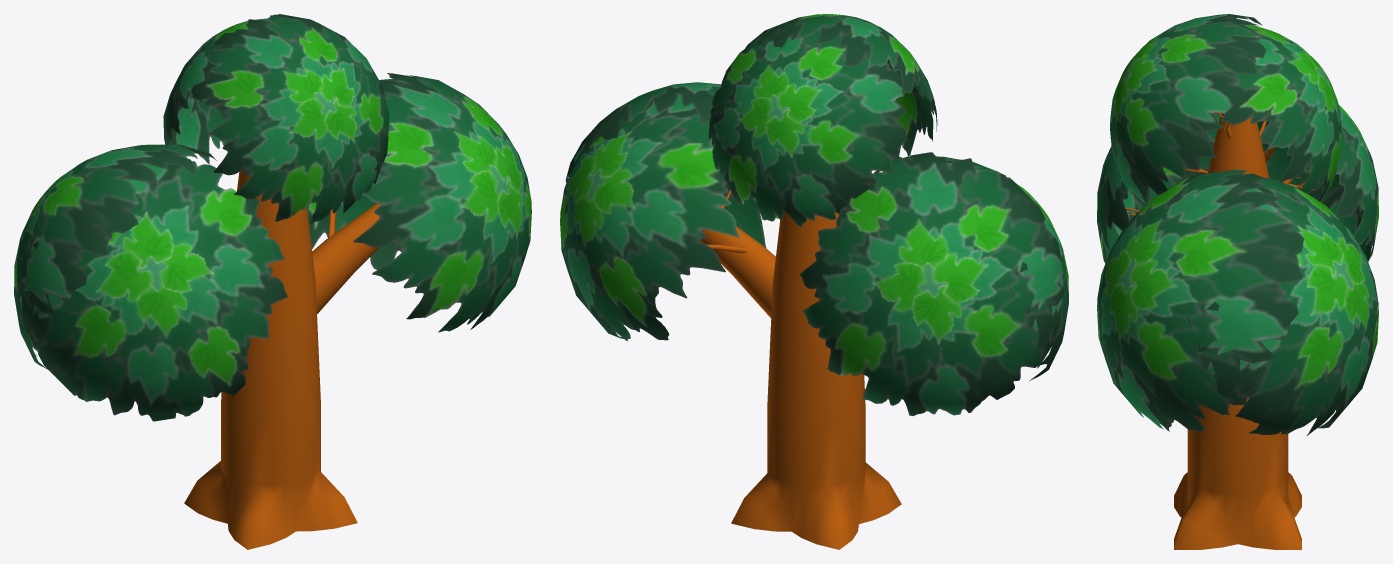
File: wood.fbx
3 renders of one model, left to right at view 1: azimuth 30°, elevation 25°; view 2: azimuth 150°, elevation 25°; view 3: azimuth 270°, elevation 25°, orthographic. The views are drawn at different scales.
Parts seen in each view (by area): view 1: leaf03, leaf01, leaf05, wood_miki, leaf04, leaf06, wood_eda01, wood_ne01, wood_ne00, wood_ne02, leaf02, wood_ne04; view 2: leaf04, leaf02, leaf06, wood_miki, leaf05, leaf01, wood_eda01, wood_ne04, leaf03, wood_ne00, wood_ne03, wood_ne01; view 3: leaf01, leaf02, leaf05, leaf06, wood_miki, leaf04, leaf03, wood_ne03, wood_ne02, wood_ne00, wood_ne01, wood_ne04.
Boxes of the visible parts, <box> form: leaf03: <box>18,161,287,421</box>; leaf01: <box>353,73,531,332</box>; leaf05: <box>191,14,389,224</box>; wood_miki: <box>221,169,320,485</box>; leaf04: <box>14,144,216,369</box>; leaf06: <box>163,18,268,164</box>; wood_eda01: <box>312,203,379,314</box>; wood_ne01: <box>228,485,295,549</box>; wood_ne00: <box>221,465,320,530</box>; wood_ne02: <box>296,470,357,531</box>; leaf02: <box>307,79,404,269</box>; wood_ne04: <box>184,461,227,523</box>; leaf04: <box>800,152,1064,416</box>; leaf02: <box>560,94,739,340</box>; leaf06: <box>708,29,907,226</box>; wood_miki: <box>767,211,865,486</box>; leaf05: <box>745,14,937,156</box>; leaf01: <box>565,82,780,248</box>; wood_eda01: <box>700,226,775,318</box>; wood_ne04: <box>792,486,858,549</box>; leaf03: <box>874,156,1068,380</box>; wood_ne00: <box>767,466,865,531</box>; wood_ne03: <box>731,472,791,531</box>; wood_ne01: <box>859,462,901,523</box>; leaf01: <box>1097,169,1304,432</box>; leaf02: <box>1186,177,1378,435</box>; leaf05: <box>1110,14,1266,203</box>; leaf06: <box>1221,25,1341,201</box>; wood_miki: <box>1187,114,1288,494</box>; leaf04: <box>1257,105,1378,261</box>; leaf03: <box>1097,112,1272,263</box>; wood_ne03: <box>1238,489,1301,549</box>; wood_ne02: <box>1174,489,1237,549</box>; wood_ne00: <box>1187,474,1288,543</box>; wood_ne01: <box>1174,472,1187,517</box>; wood_ne04: <box>1288,472,1301,517</box>.
Size of the model in its own units: 18.72 by 18.26 by 9.39.
